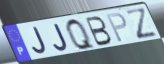B: (84, 16, 114, 48)
J: (53, 22, 70, 52), (31, 26, 48, 56)
P: (106, 12, 130, 44)
Q: (64, 17, 98, 51)
Z: (124, 7, 160, 42)
